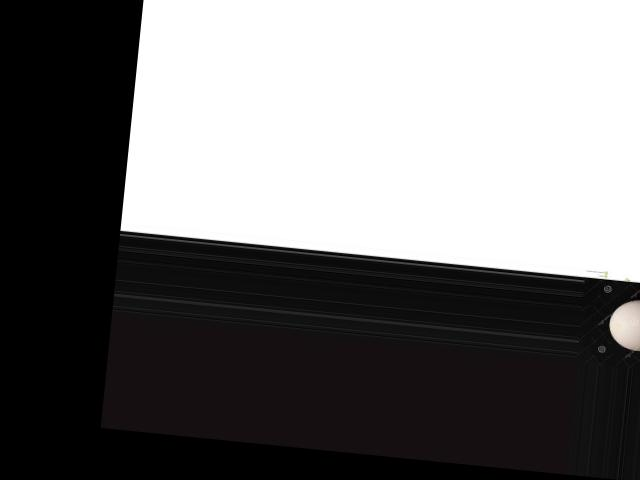egg: (606, 296, 640, 354)
